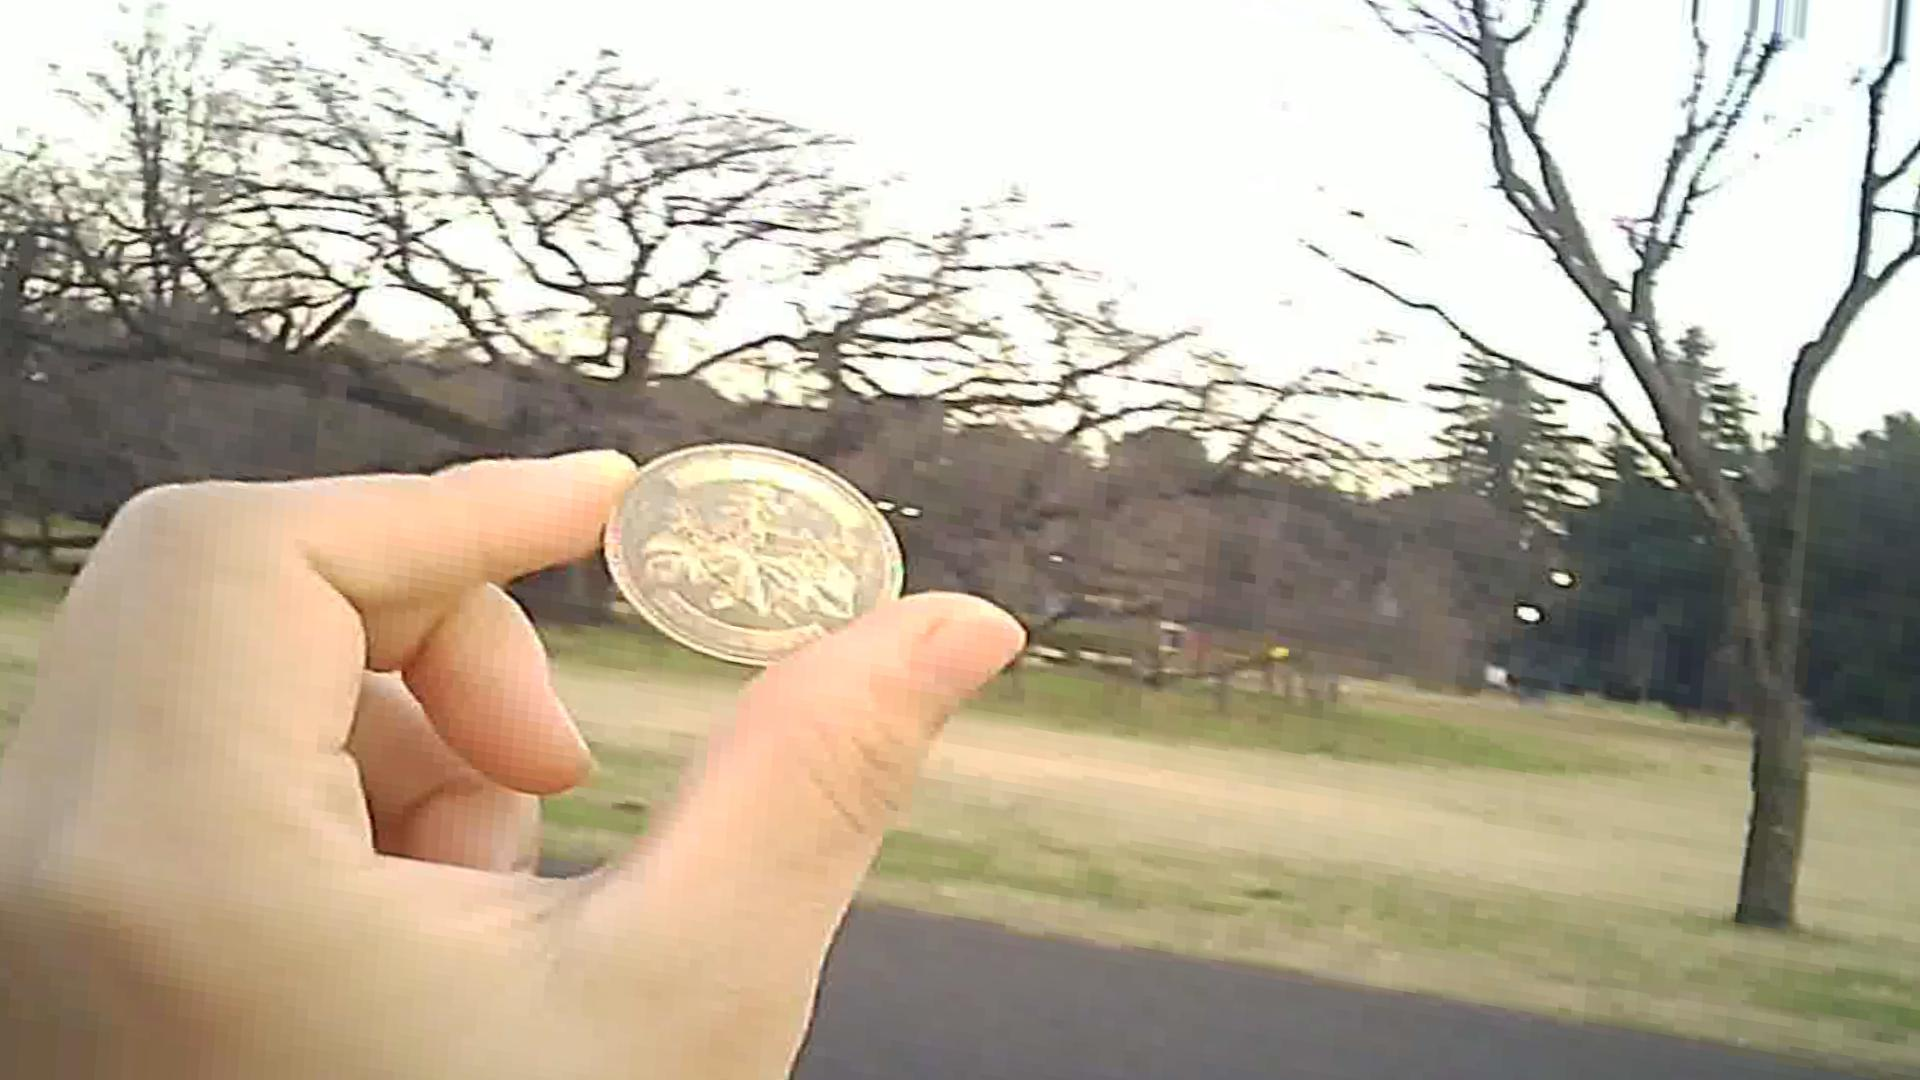500 Yen: (589, 426, 898, 667)
